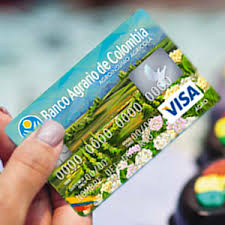tarjeta: (5, 9, 221, 216)
